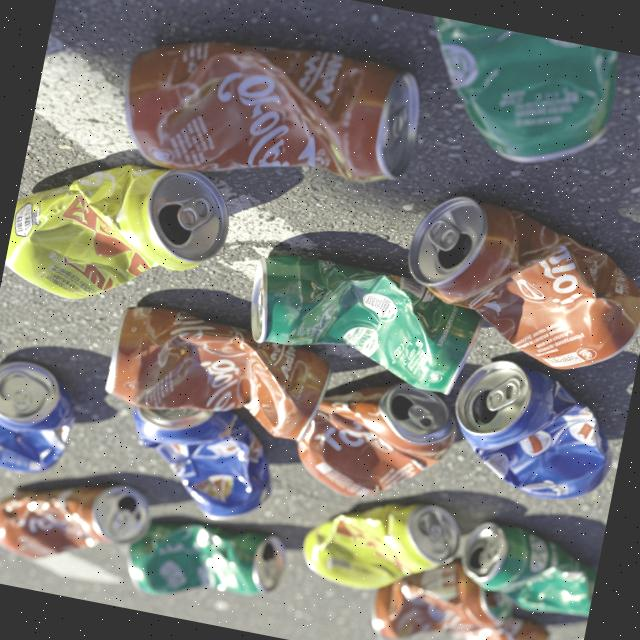aluminum: (113, 13, 432, 214), (402, 190, 640, 382), (0, 144, 235, 329), (242, 240, 490, 394), (100, 302, 339, 444), (298, 482, 472, 608), (118, 504, 294, 620), (0, 460, 150, 573), (0, 352, 84, 484)
